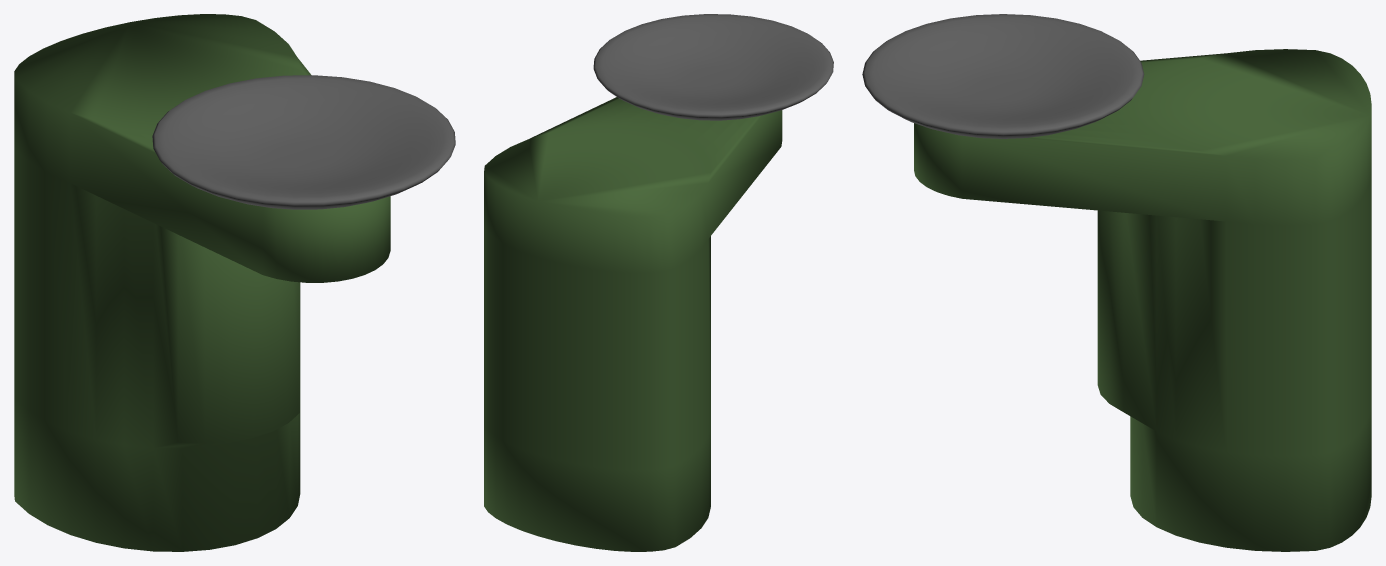
File: fountain.fbx
3 views of the same model, side by side, from view 1: azimuth 30°, elevation 25°; view 2: azimuth 150°, elevation 25°; view 3: azimuth 270°, elevation 25° (orthographic). The views are drawn at different scales.
Parts seen in each view (by area): view 1: Stand, Bowl; view 2: Stand, Bowl; view 3: Stand, Bowl.
Part boxes in pixels (x1=…): Stand: x1=14, y1=14, x2=390, y2=551; Bowl: x1=152, y1=75, x2=455, y2=209; Stand: x1=484, y1=97, x2=782, y2=551; Bowl: x1=593, y1=14, x2=833, y2=120; Stand: x1=914, y1=49, x2=1371, y2=551; Bowl: x1=862, y1=14, x2=1144, y2=138.
Bounding box in the file's own units: 116 × 193 × 210.
